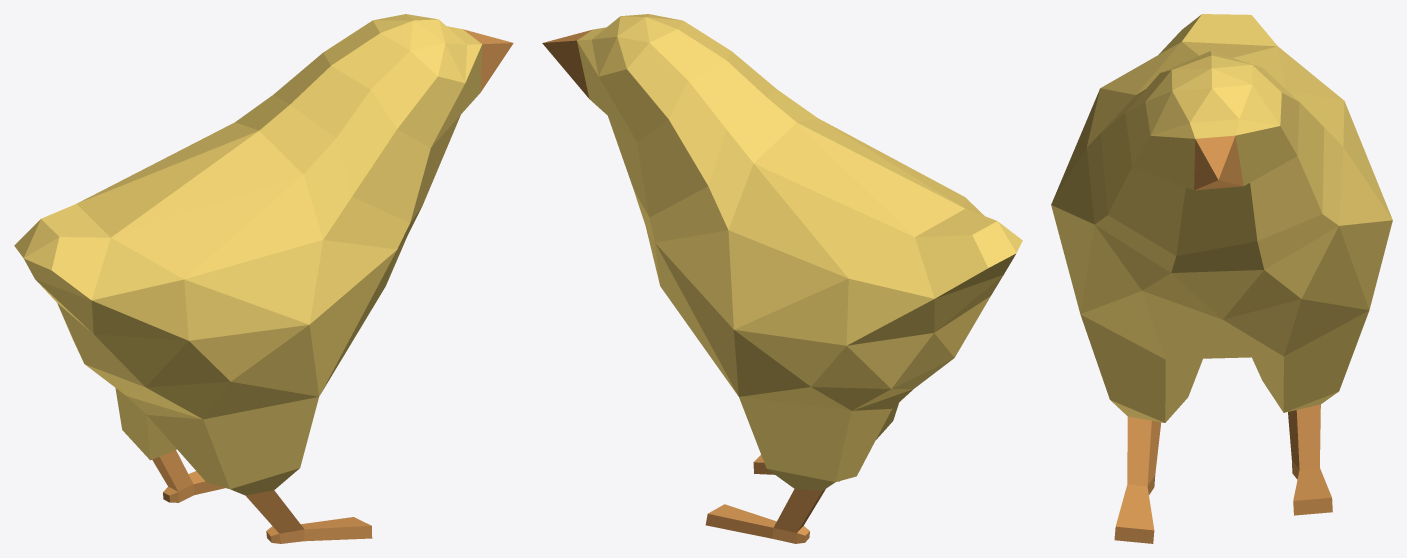
Rendered from Chick.glb.
3 renders of one model, left to right at view 1: azimuth 30°, elevation 25°; view 2: azimuth 150°, elevation 25°; view 3: azimuth 270°, elevation 25°, orthographic. The views are drawn at different scales.
Parts seen in each view (by area): view 1: Icosphere; view 2: Icosphere; view 3: Icosphere.
Boxes of the visible parts, <box> form: Icosphere: <box>14,14,513,543</box>; Icosphere: <box>542,14,1022,543</box>; Icosphere: <box>1051,14,1392,543</box>.
Bounding box in the file's own units: 4.92 × 4.51 × 2.67.
